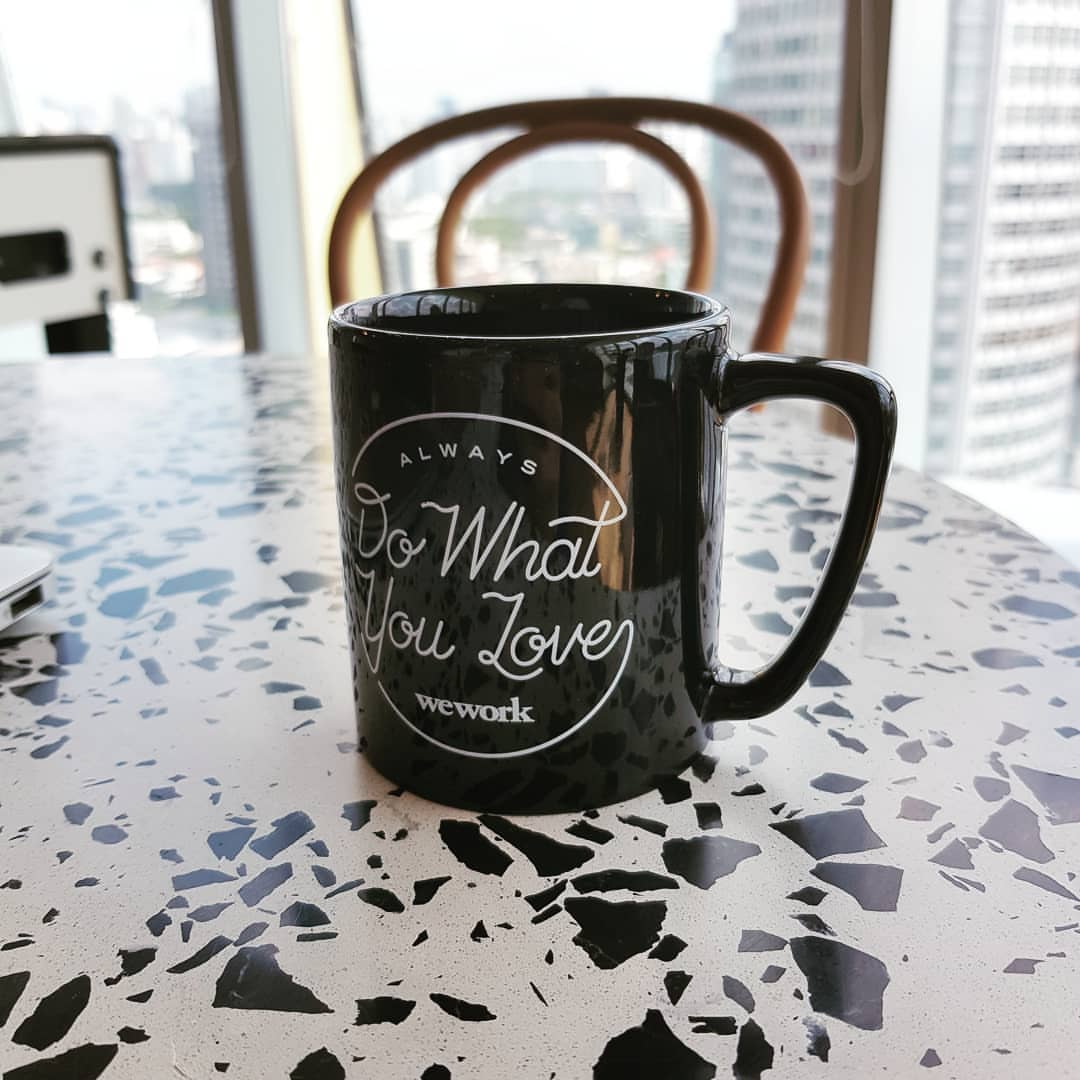wework: (412, 687, 539, 725)
